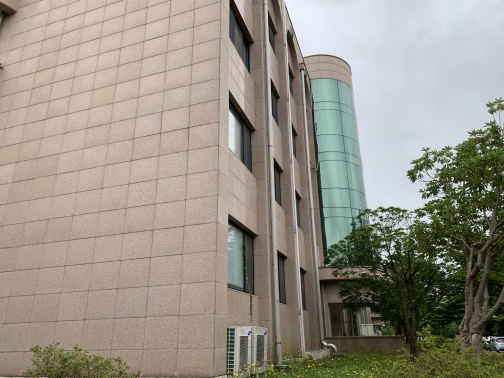Natural Science2: (181, 1, 387, 378)
